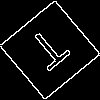T: (25, 25, 78, 79)
